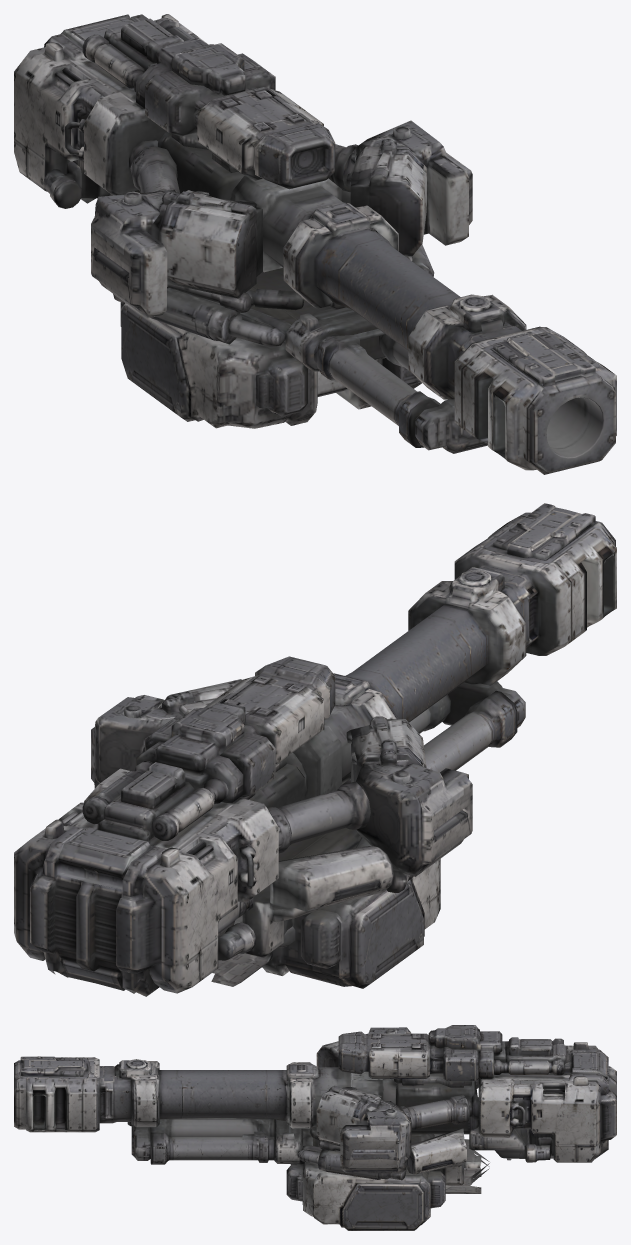
The model's file is sung_phao.glb.
3 views of the same model, one above another, from view 1: azimuth 30°, elevation 25°; view 2: azimuth 150°, elevation 25°; view 3: azimuth 270°, elevation 25° (orthographic). The views are drawn at different scales.
Parts seen in each view (by area): view 1: dff66b4b_e34b_46ee_979f_a50c8bc1bf34; view 2: dff66b4b_e34b_46ee_979f_a50c8bc1bf34; view 3: dff66b4b_e34b_46ee_979f_a50c8bc1bf34.
Part boxes in pixels (x1,y1,x2,y2): dff66b4b_e34b_46ee_979f_a50c8bc1bf34: (14, 14, 616, 474); dff66b4b_e34b_46ee_979f_a50c8bc1bf34: (14, 503, 616, 996); dff66b4b_e34b_46ee_979f_a50c8bc1bf34: (14, 1025, 616, 1230).
Size of the model in its own units: 2.79 by 2.11 by 7.
1 material, 1 textured.
